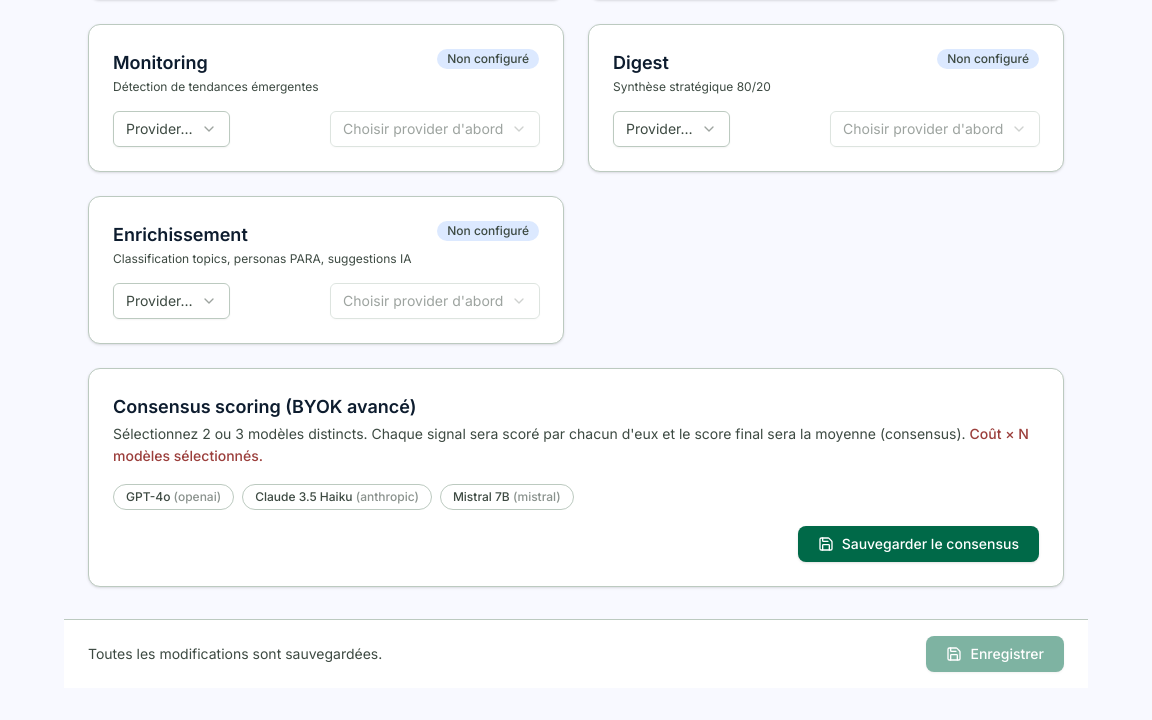
Test: Settings — consensus scoring › ne permet pas de sélectionner plus de 3 modèles
(page scrolled)
Click the button "GPT-4o (openai)".
click(174, 497)  # box [113,484,234,510]
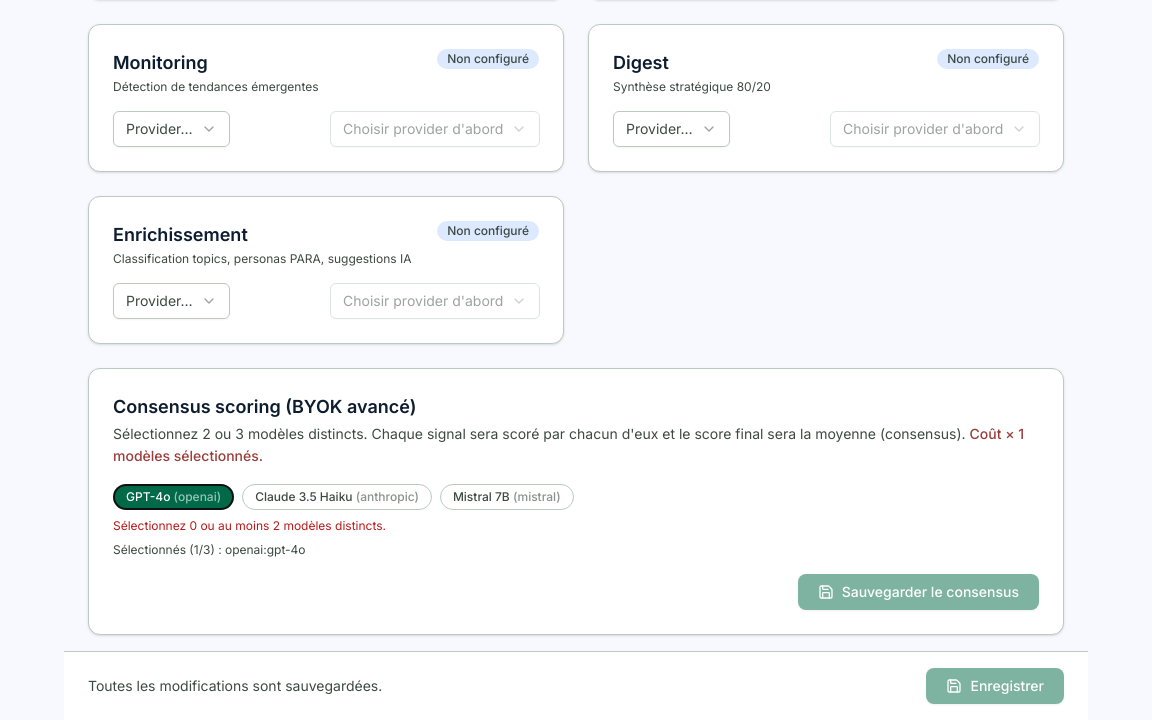
Click the button "Claude 3.5 Haiku (anthropic)".
click(337, 497)  # box [242,484,432,510]
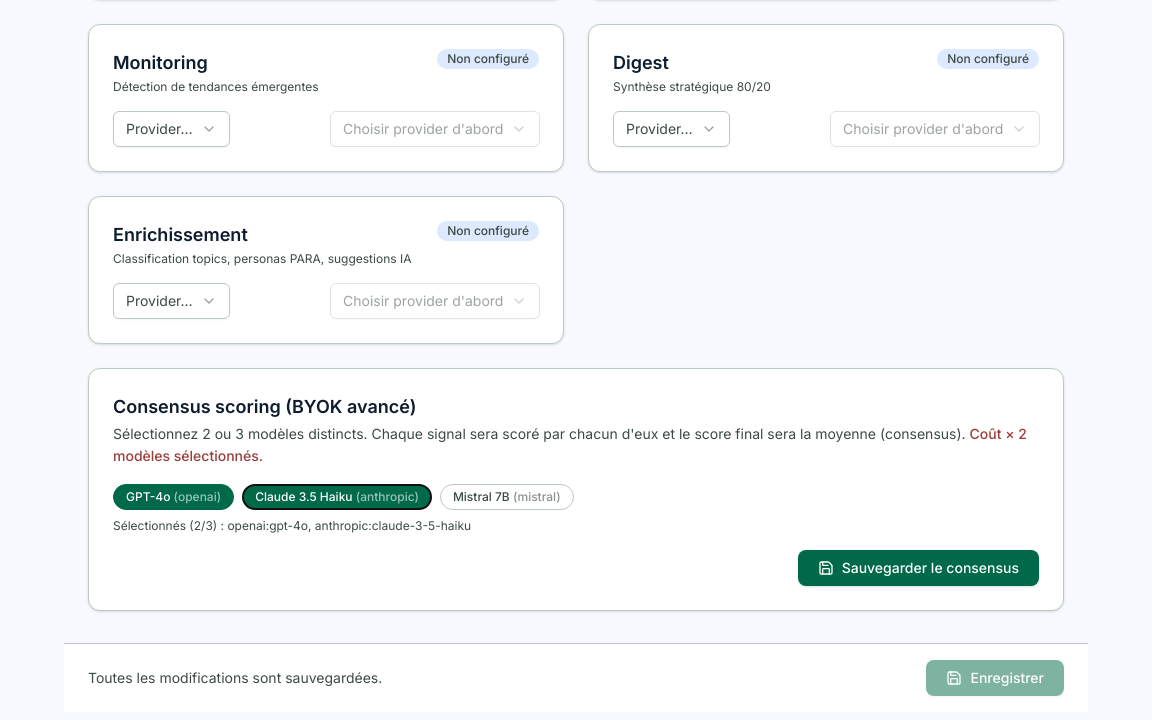
Click the button "Mistral 7B (mistral)".
click(507, 497)  # box [440,484,574,510]
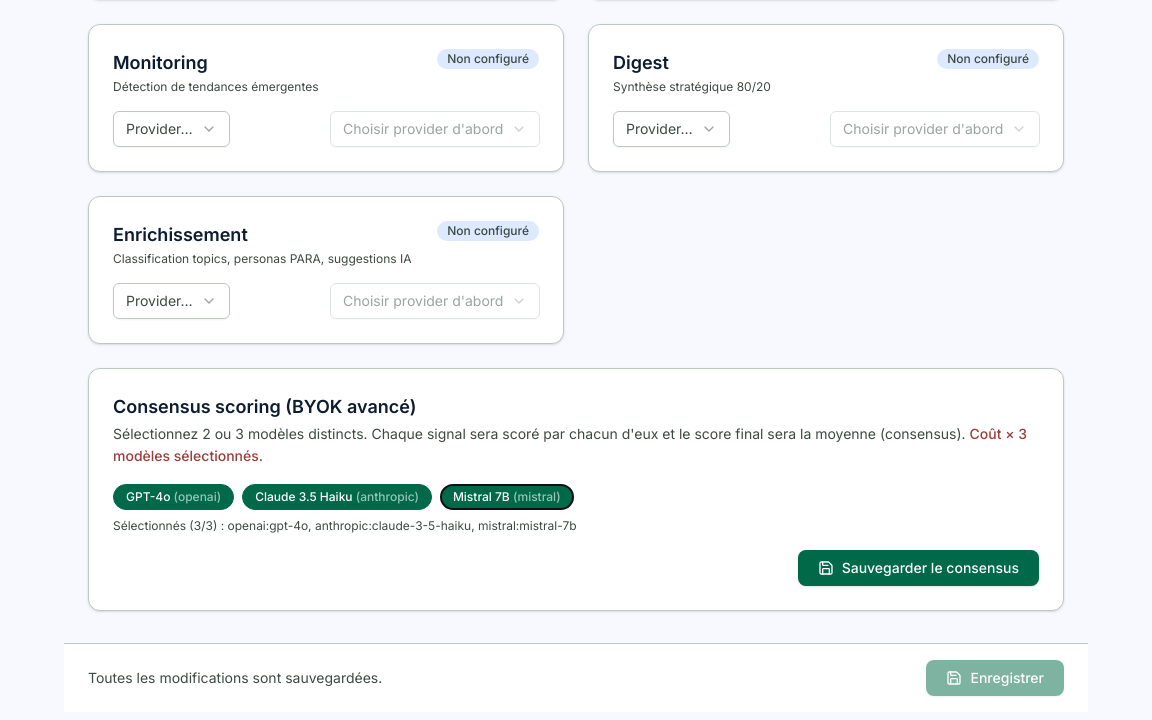
Expected: the text "Sélectionnés (3/3)" is shown, [113,518,576,533]
